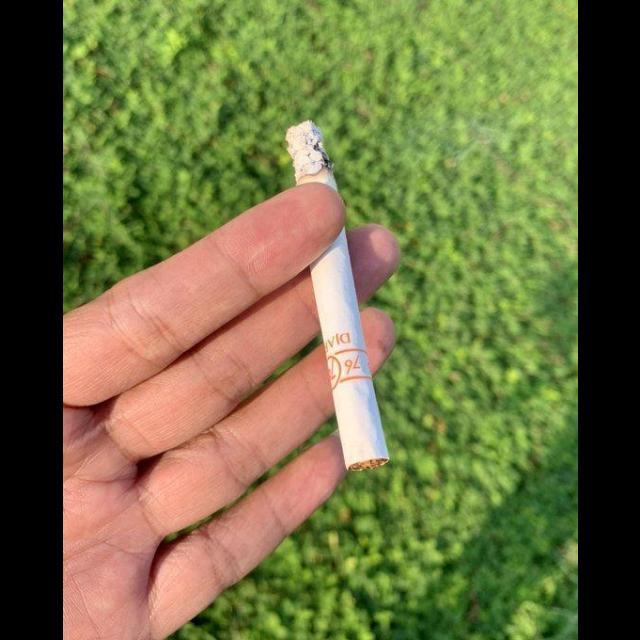rokok: (286, 115, 390, 479)
